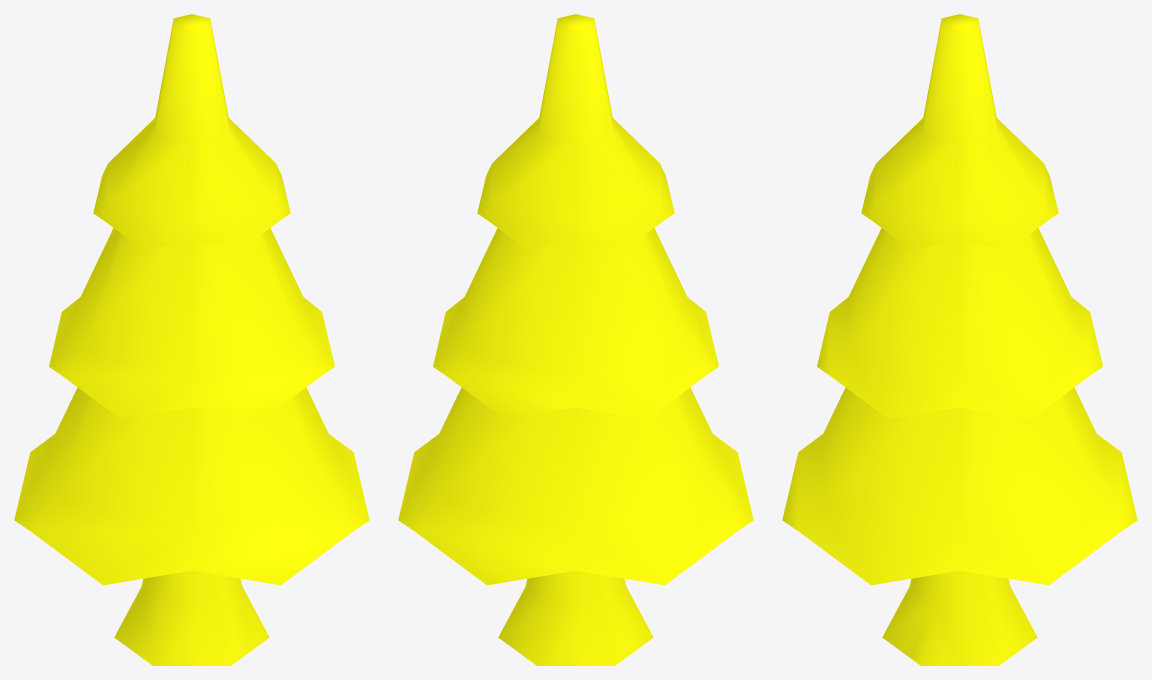
Rendered from _fbx_all_tree.glb.
The picture shows the model from 3 angles, left to right: view 1: azimuth 30°, elevation 25°; view 2: azimuth 150°, elevation 25°; view 3: azimuth 270°, elevation 25°; orthographic projection.
Parts seen in each view (by area): view 1: tree; view 2: tree; view 3: tree.
Part boxes in pixels (box(x1,y1,x2,y2)): tree: box(14, 14, 369, 665); tree: box(398, 14, 753, 665); tree: box(782, 14, 1137, 665).
Size of the model in its own units: 0.9274 by 1.68 by 0.8828.
1 material, 1 textured.
